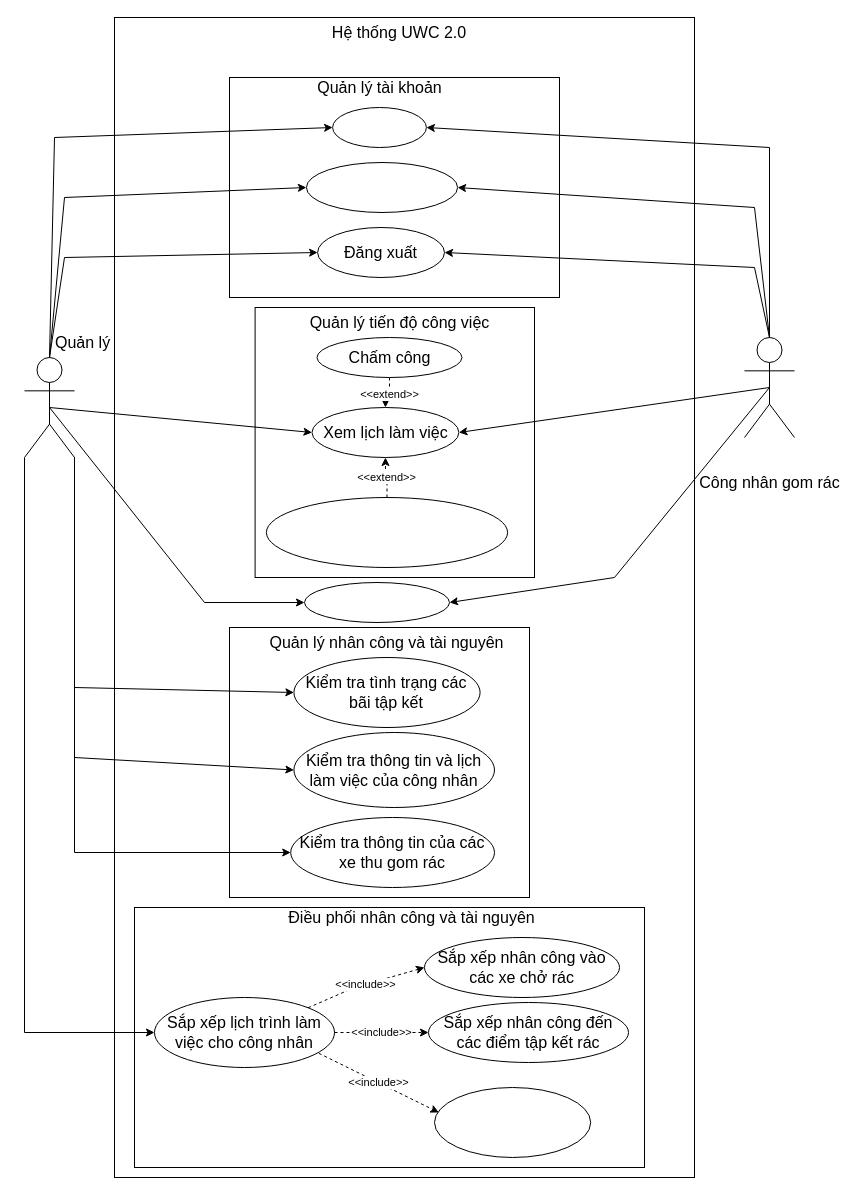
Some shapes in this 857 by 1195 pixel diagram are drawn without their labels. The shapes that lost their labels are listed below. From the top down, each one's box as (x1, y1, x2, y2) in pixels, then its label:
(332, 106, 426, 148): Đăng nhập
(305, 162, 458, 212): Chỉnh sửa tài khoản
(265, 496, 508, 568): Xem chi tiết công việc trong ngày/tuần
(304, 582, 450, 622): Liên lạc
(434, 1086, 591, 1158): Sắp xếp lộ trình thu gom rác
